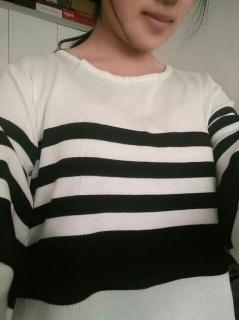long sleeve top: (0, 50, 239, 319)
